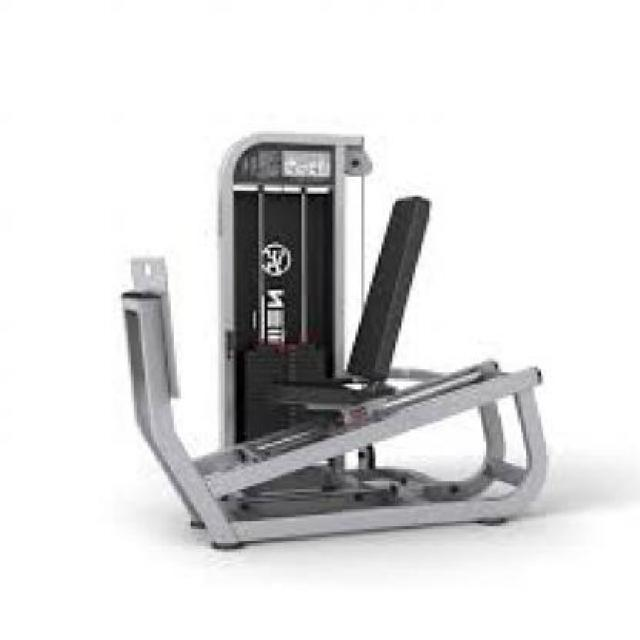leg press: (91, 120, 563, 551)
